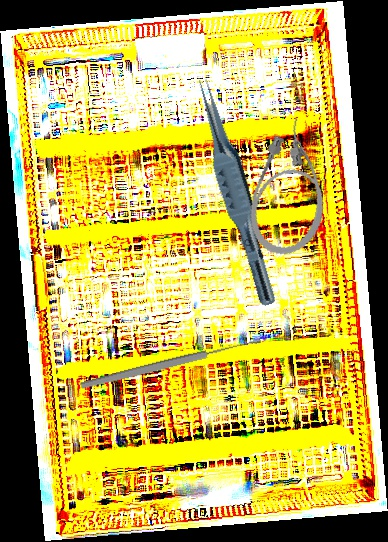Cannula: (240, 112, 344, 263)
Surgical Spoon: (78, 335, 264, 392)
Tissue Forceps: (183, 75, 290, 308)
